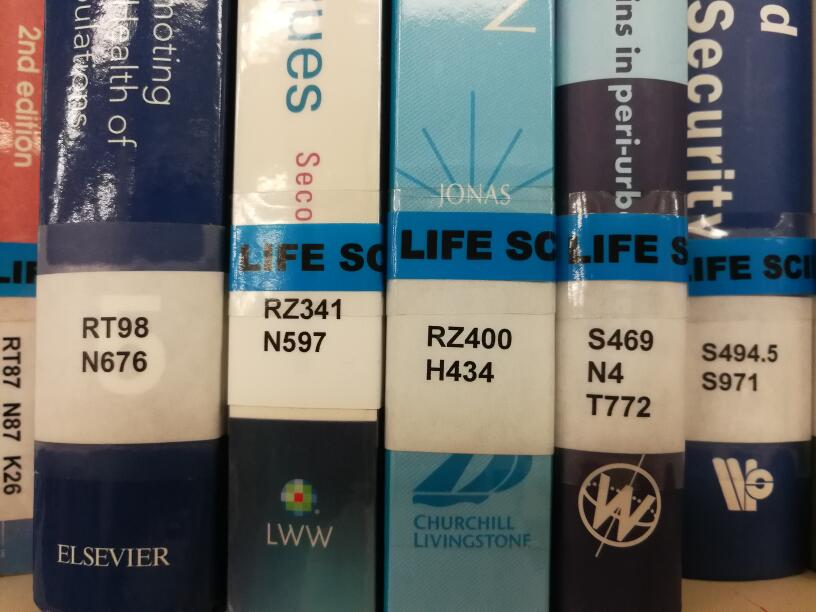booklabel: (583, 325, 658, 418), (421, 322, 512, 385), (261, 294, 344, 353), (698, 339, 780, 394), (79, 313, 150, 374), (1, 329, 23, 499)
